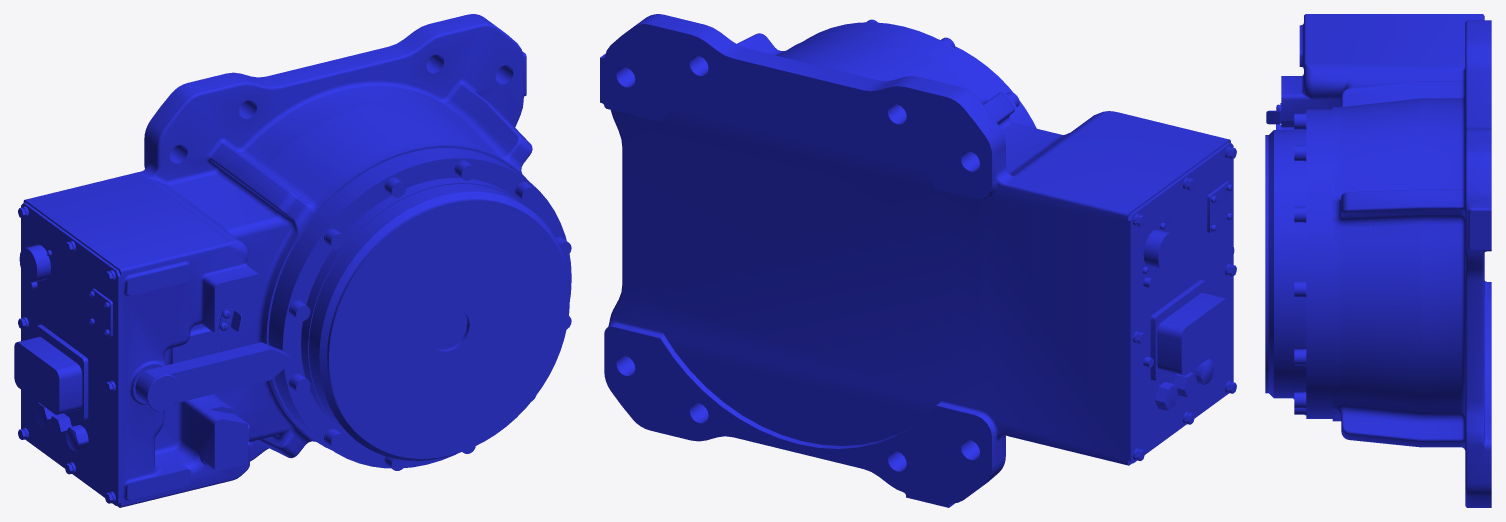
File: BaseLink.glb
The picture shows the model from 3 angles, left to right: view 1: azimuth 30°, elevation 25°; view 2: azimuth 150°, elevation 25°; view 3: azimuth 270°, elevation 25°; orthographic projection. The views are drawn at different scales.
Parts seen in each view (by area): view 1: /BaseLink/BaseLink_004-mesh/0; view 2: /BaseLink/BaseLink_004-mesh/0; view 3: /BaseLink/BaseLink_004-mesh/0.
Boxes of the visible parts, box(x1,y1,x2,y2) form: /BaseLink/BaseLink_004-mesh/0: box(14, 14, 571, 507); /BaseLink/BaseLink_004-mesh/0: box(600, 14, 1236, 507); /BaseLink/BaseLink_004-mesh/0: box(1265, 14, 1491, 507).
Bounding box in the file's own units: 0.6449 × 0.455 × 0.259.
